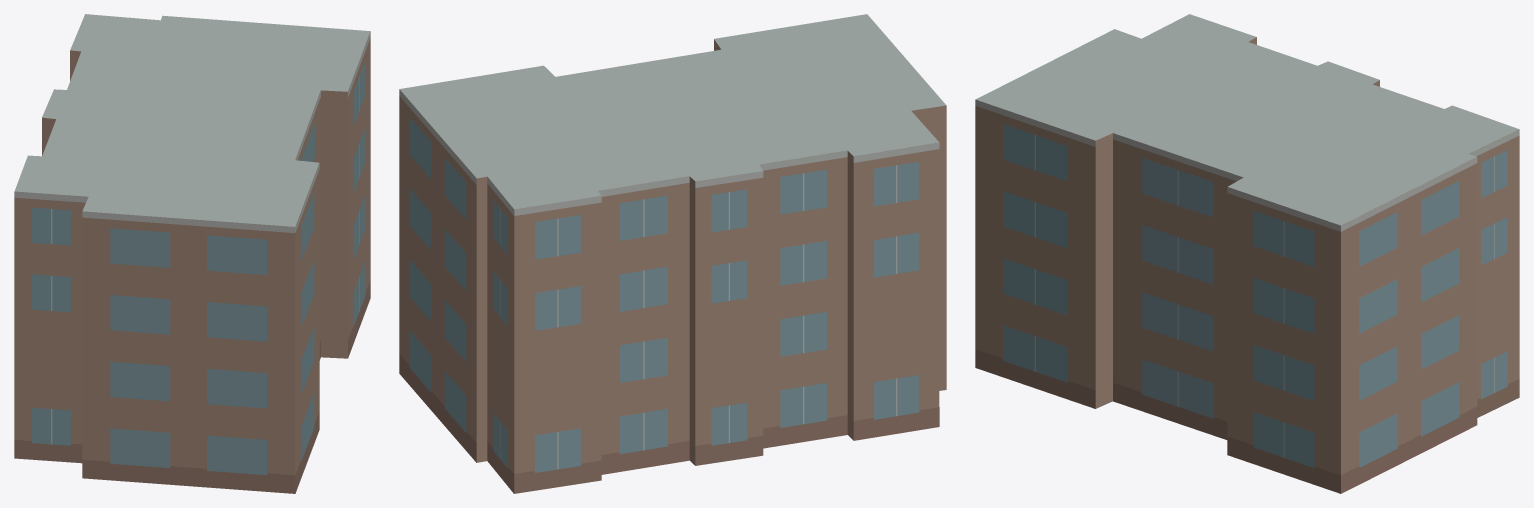
The model's file is survey-upis-32979579.glb.
3 renders of one model, left to right at view 1: azimuth 30°, elevation 25°; view 2: azimuth 150°, elevation 25°; view 3: azimuth 270°, elevation 25°, orthographic. The views are drawn at different scales.
Parts seen in each view (by area): view 1: survey-upis-32979579.tmp; view 2: survey-upis-32979579.tmp; view 3: survey-upis-32979579.tmp.
Boxes of the visible parts, <box> form: survey-upis-32979579.tmp: <box>14,14,370,493</box>; survey-upis-32979579.tmp: <box>399,14,946,493</box>; survey-upis-32979579.tmp: <box>975,14,1519,493</box>.
Size of the model in its own units: 17.77 by 10.5 by 19.31.
